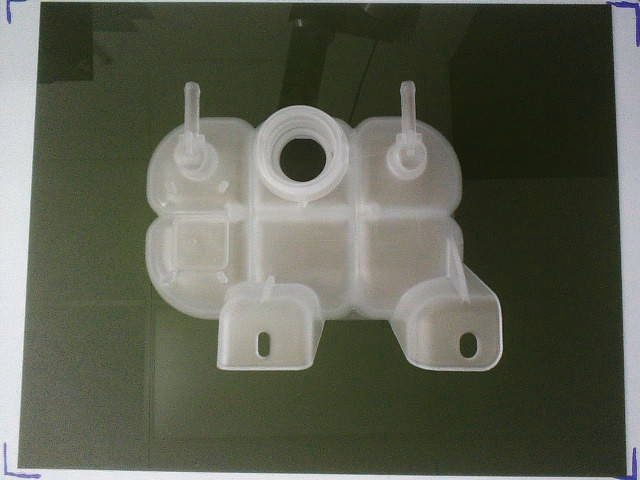reservoir_transparent_Top: (145, 80, 503, 372)
